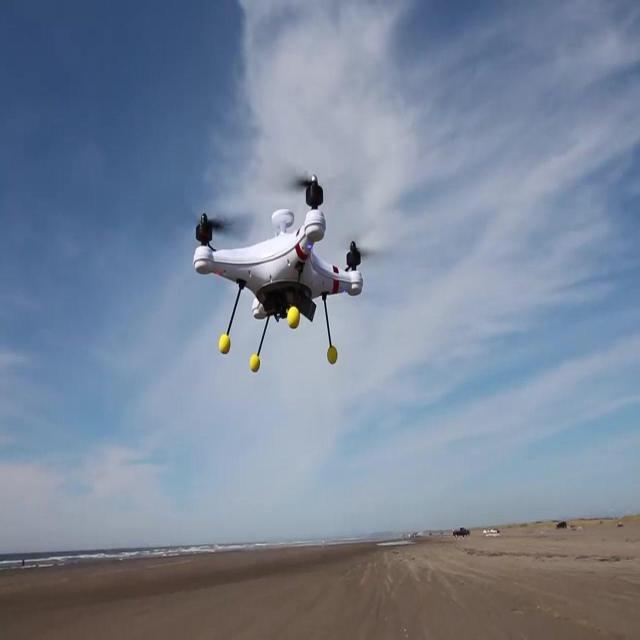drone: (193, 173, 364, 375)
